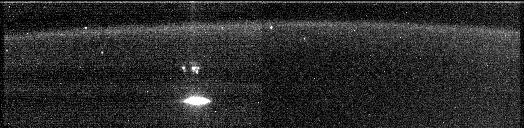positive: (179, 62, 201, 77)
